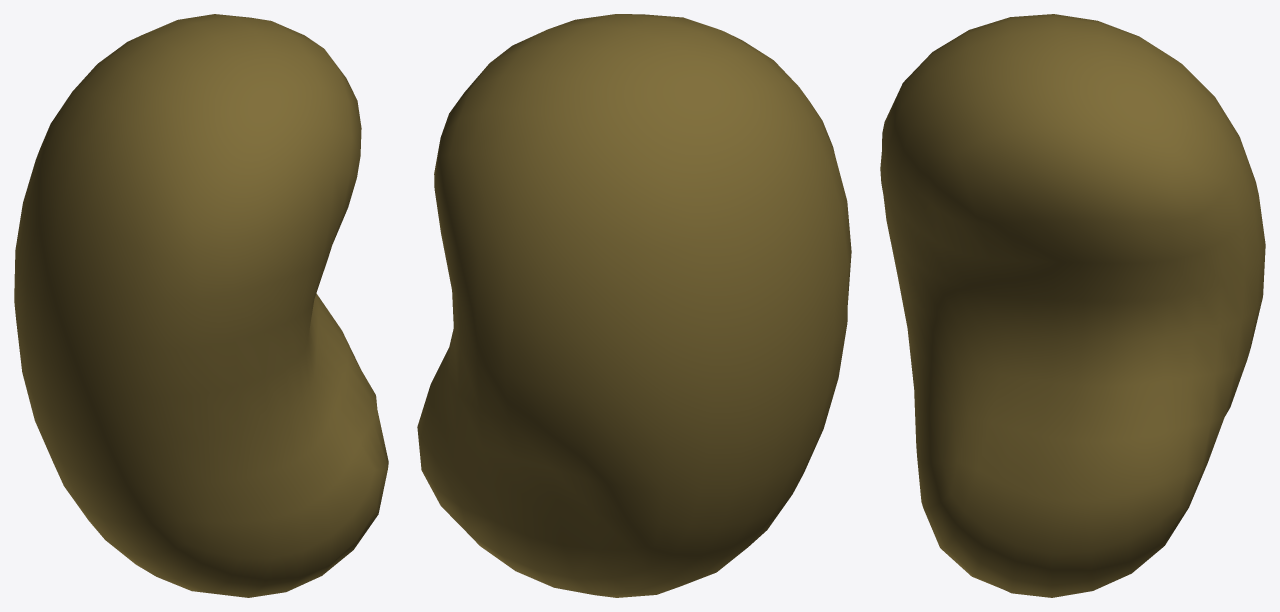
File: Potato.fbx
3 renders of one model, left to right at view 1: azimuth 30°, elevation 25°; view 2: azimuth 150°, elevation 25°; view 3: azimuth 270°, elevation 25°, orthographic. The views are drawn at different scales.
Parts seen in each view (by area): view 1: Potato; view 2: Potato; view 3: Potato.
Boxes of the visible parts, x1=… form: Potato: x1=14, y1=14, x2=388, y2=597; Potato: x1=417, y1=14, x2=851, y2=597; Potato: x1=880, y1=14, x2=1265, y2=597.
Size of the model in its own units: 59.38 by 90.46 by 58.89.
